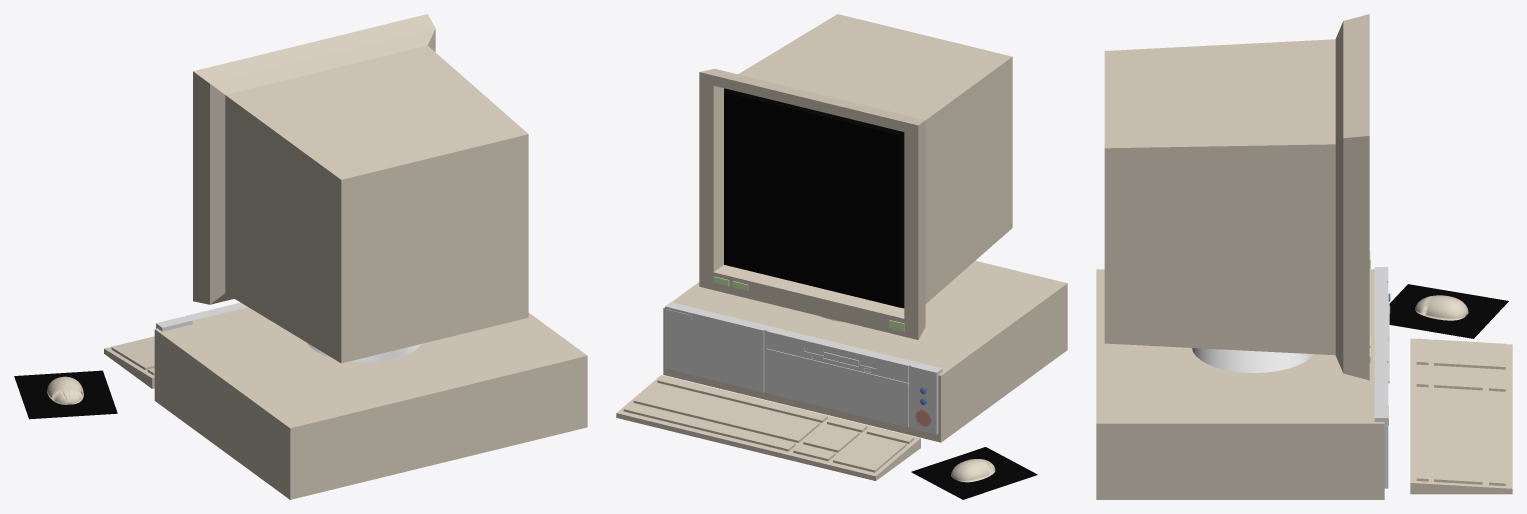
The model's file is computer.glb.
3 renders of one model, left to right at view 1: azimuth 30°, elevation 25°; view 2: azimuth 150°, elevation 25°; view 3: azimuth 270°, elevation 25°, orthographic. The views are drawn at different scales.
Visible parts, largest first — view 1: Cube.004, Cube.002, Plane, Cube.009, Cube.010, Cube.003; view 2: Cube.004, Cube.011, Cube.002, Cube.003, Cube.009, Plane, Cube.010; view 3: Cube.004, Cube.002, Cube.009, Plane, Cube.003, Cube.001, Cube.010.
Part boxes in pixels (left/top/right/bottom): Cube.004: left=193, top=14, right=528, bottom=363; Cube.002: left=154, top=307, right=587, bottom=499; Plane: left=14, top=370, right=117, bottom=419; Cube.009: left=104, top=336, right=154, bottom=388; Cube.010: left=47, top=376, right=83, bottom=404; Cube.003: left=156, top=302, right=247, bottom=331; Cube.004: left=699, top=14, right=1012, bottom=339; Cube.011: left=724, top=88, right=904, bottom=308; Cube.002: left=663, top=260, right=1067, bottom=442; Cube.003: left=665, top=302, right=942, bottom=434; Cube.009: left=616, top=375, right=920, bottom=480; Plane: left=911, top=447, right=1037, bottom=499; Cube.010: left=951, top=459, right=995, bottom=482; Cube.004: left=1104, top=14, right=1369, bottom=380; Cube.002: left=1096, top=269, right=1384, bottom=499; Cube.009: left=1410, top=338, right=1512, bottom=494; Plane: left=1389, top=284, right=1508, bottom=338; Cube.003: left=1374, top=267, right=1389, bottom=488; Cube.001: left=1192, top=348, right=1313, bottom=372; Cube.010: left=1415, top=295, right=1468, bottom=320.
Bounding box in the file's own units: 3.51 × 2.66 × 2.89.
